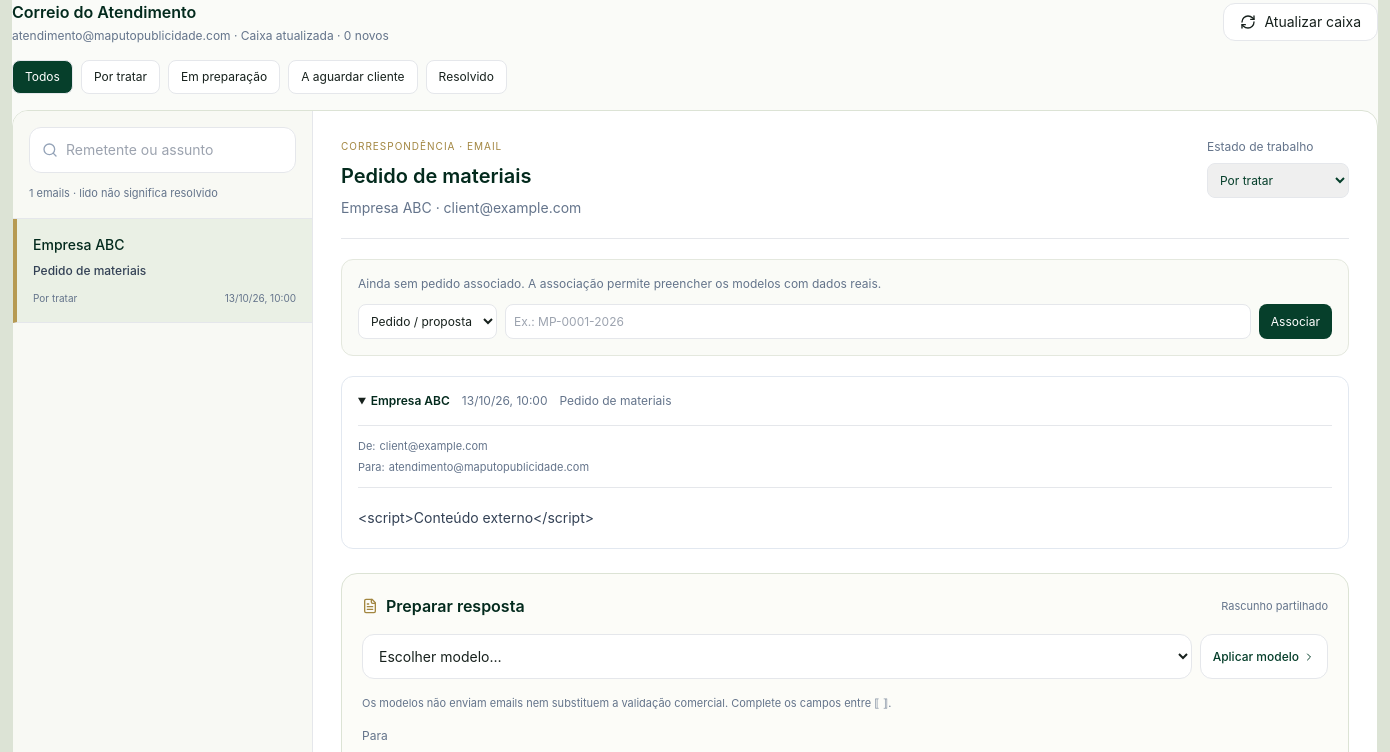
Email workdesk › applying a model only edits a draft and never sends automatically
Select "Receção do pedido" in the dropdown named "Modelo de email" at (777, 656), box [362,634,1192,679]
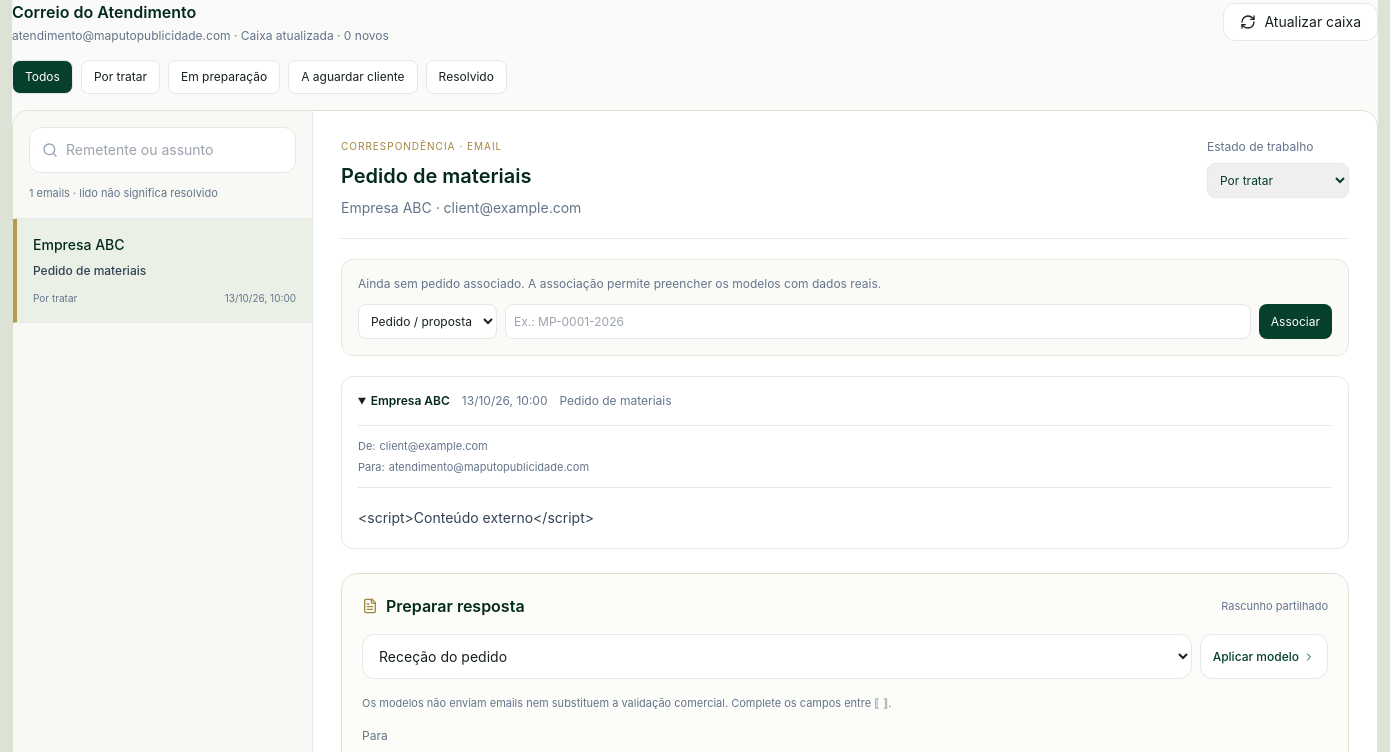
Click the button "Aplicar modelo" at (1264, 656), box [1200,634,1328,679]
(page scrolled)
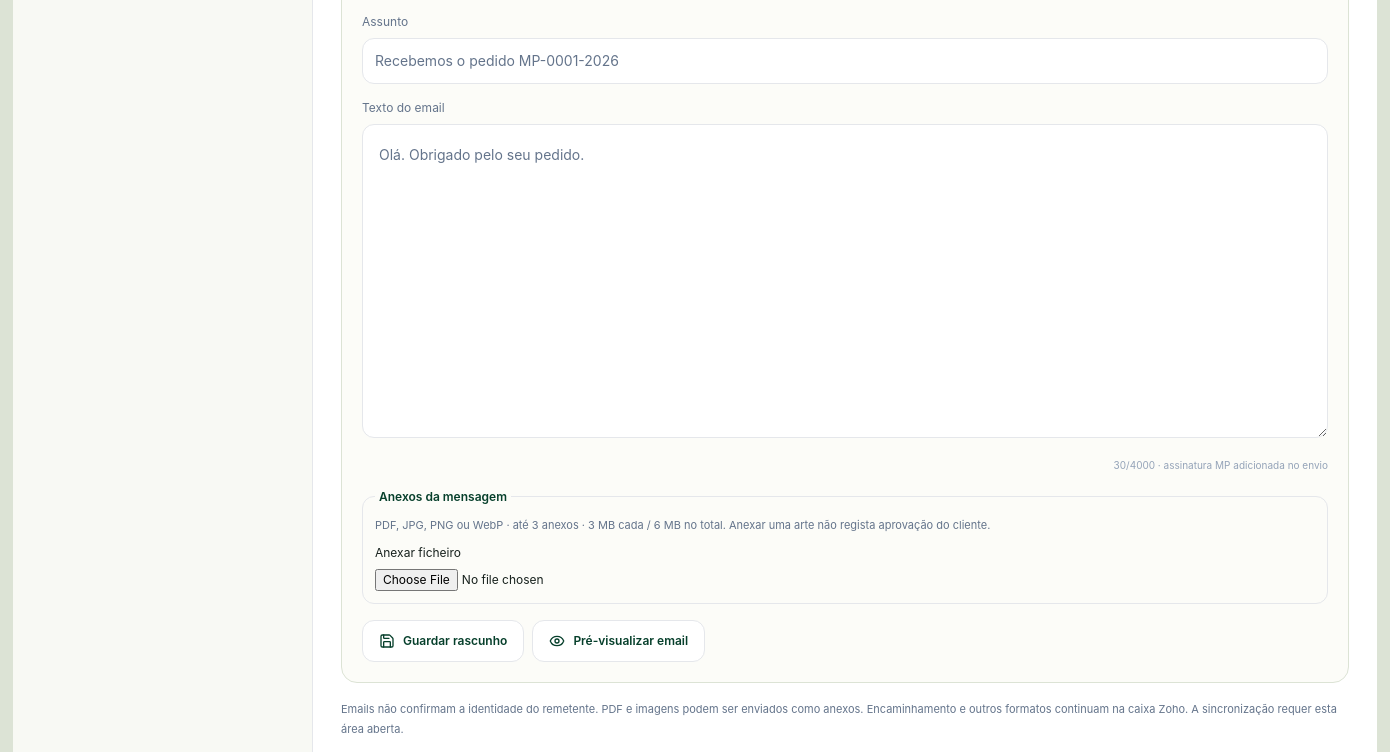
expect the button "Pré-visualizar email" is disabled: met, box [532,620,705,662]
expect the text box labelled "Texto do email" holds "Olá. Obrigado pelo seu pedido.": met, box [362,124,1328,438]
